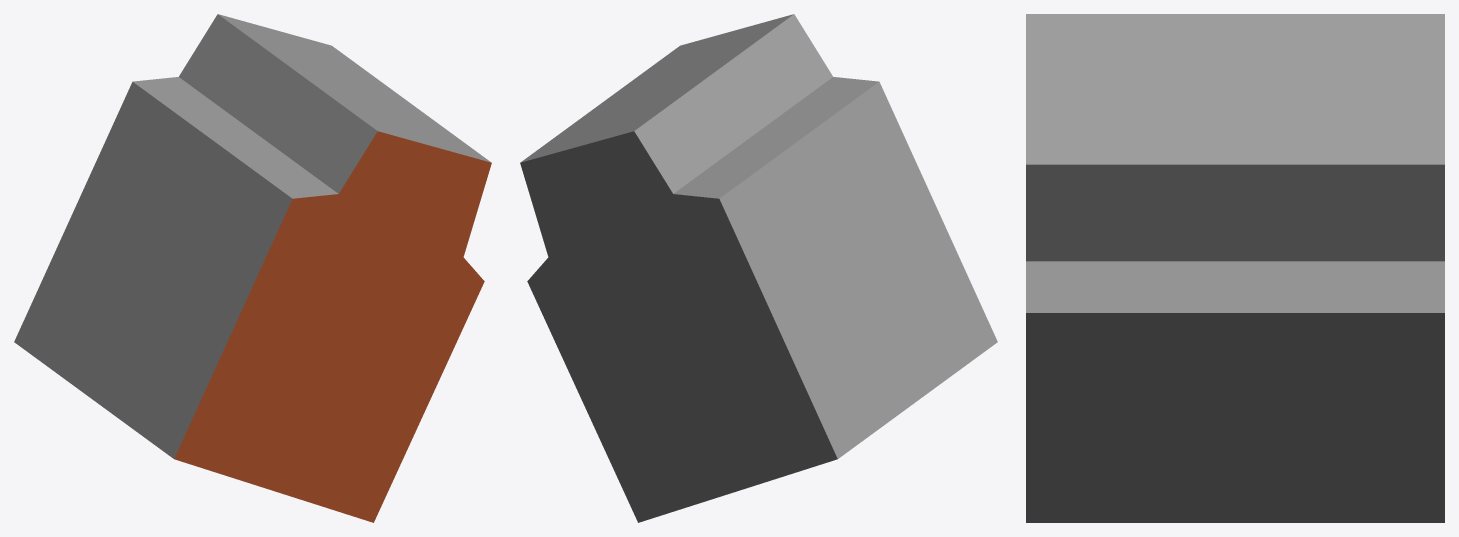
Rendered from construction_2862_assumed_A_Casa_h6m.obj.
The picture shows the model from 3 angles, left to right: view 1: azimuth 30°, elevation 25°; view 2: azimuth 150°, elevation 25°; view 3: azimuth 270°, elevation 25°; orthographic projection. The views are drawn at different scales.
Parts seen in each view (by area): view 1: construction_2862_assumed_A_Casa; view 2: construction_2862_assumed_A_Casa; view 3: construction_2862_assumed_A_Casa.
Part boxes in pixels (x1,y1,x2,y2): construction_2862_assumed_A_Casa: [14, 14, 491, 522]; construction_2862_assumed_A_Casa: [520, 14, 997, 522]; construction_2862_assumed_A_Casa: [1026, 14, 1444, 522].
Bounding box in the file's own units: 6.88 × 8.08 × 6.
